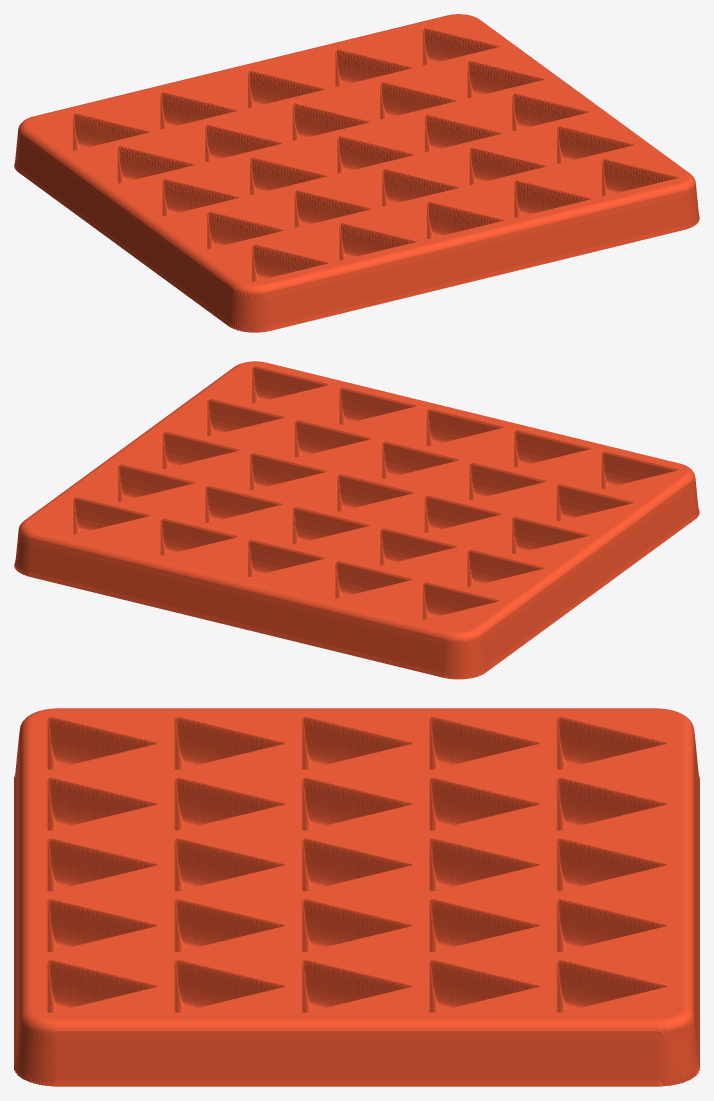
The model's file is mold.glb.
The picture shows the model from 3 angles, top to bottom: view 1: azimuth 30°, elevation 25°; view 2: azimuth 150°, elevation 25°; view 3: azimuth 270°, elevation 25°; orthographic projection. The views are drawn at different scales.
Visible parts, largest first — view 1: geometry_0; view 2: geometry_0; view 3: geometry_0.
Boxes of the visible parts, <box> form: geometry_0: <box>14,14,699,332</box>; geometry_0: <box>14,361,699,679</box>; geometry_0: <box>14,708,699,1086</box>.
Bounding box in the file's own units: 0.1584 × 0.0136 × 0.1415.
